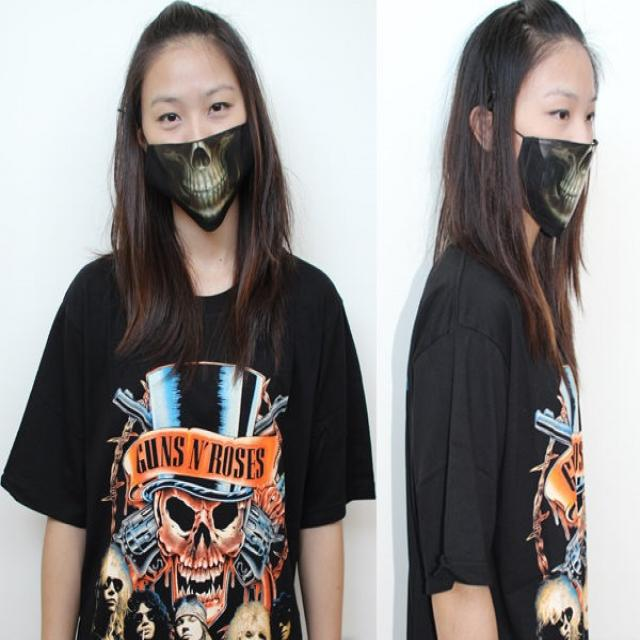mask: (138, 36, 250, 206), (494, 45, 600, 218)
